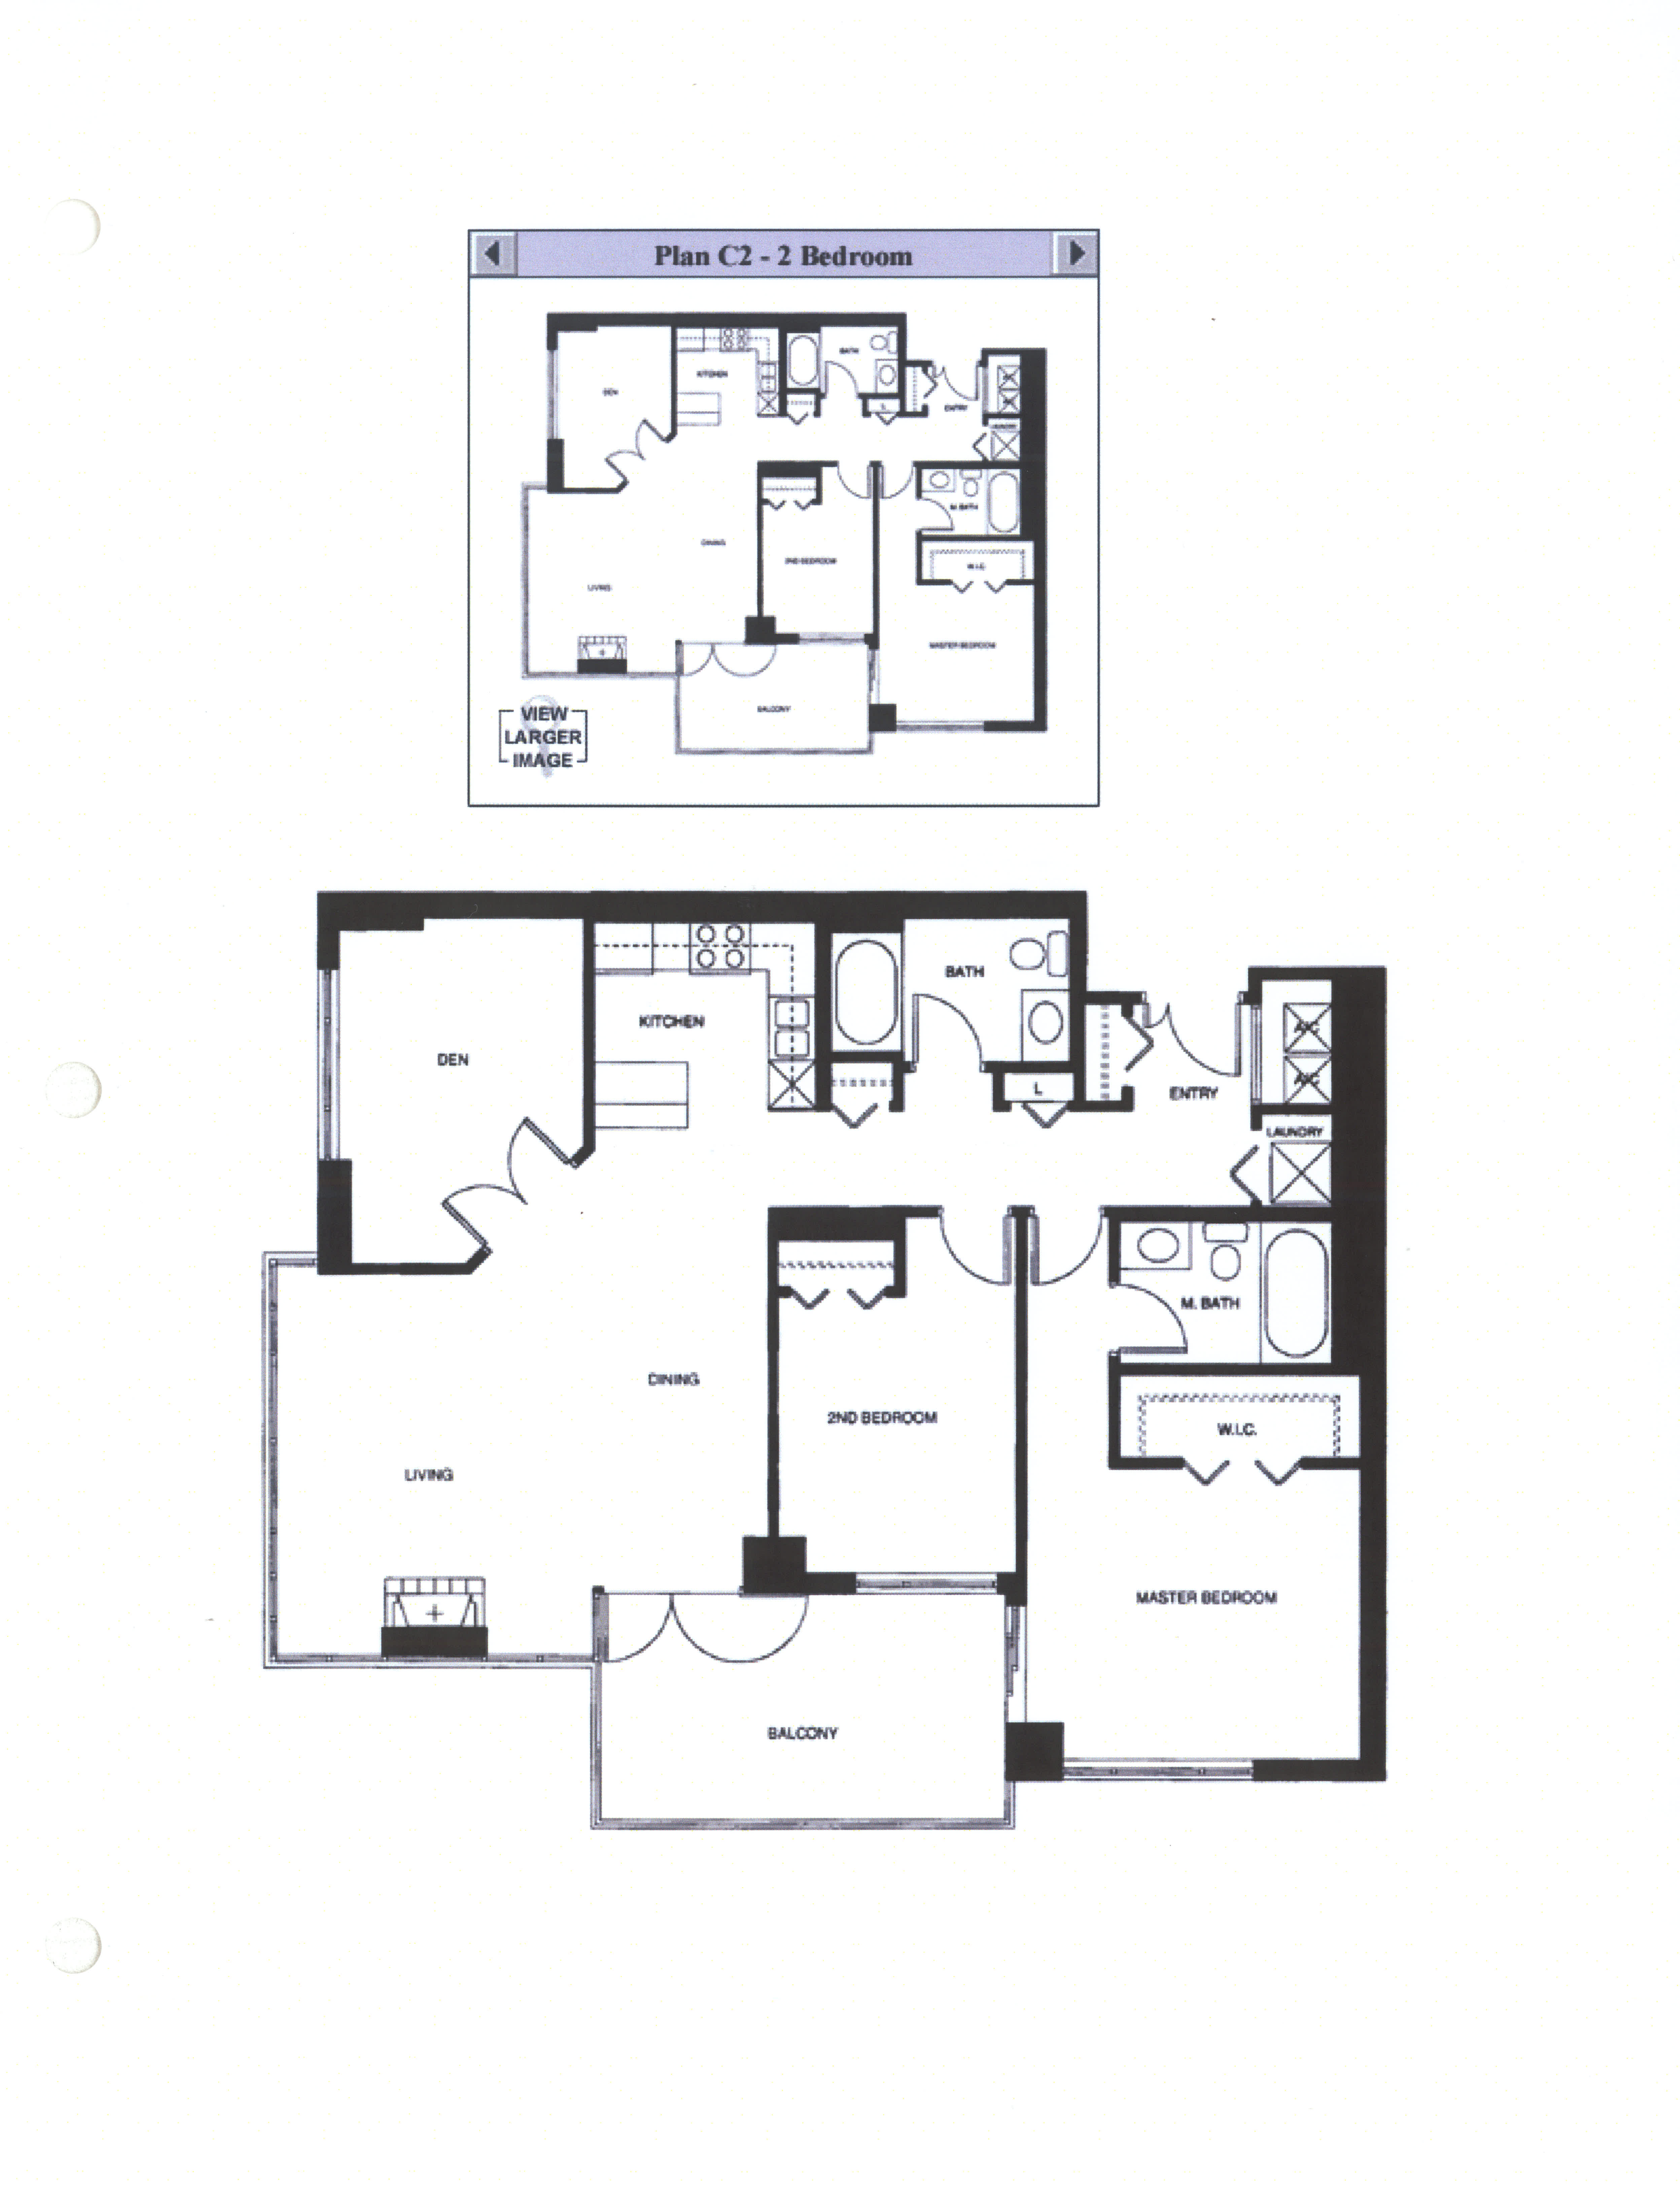door: (431, 1112, 563, 1226), (605, 1602, 819, 1671), (1016, 1216, 1117, 1300), (912, 990, 979, 1060), (596, 418, 674, 478), (942, 1223, 1009, 1290)
